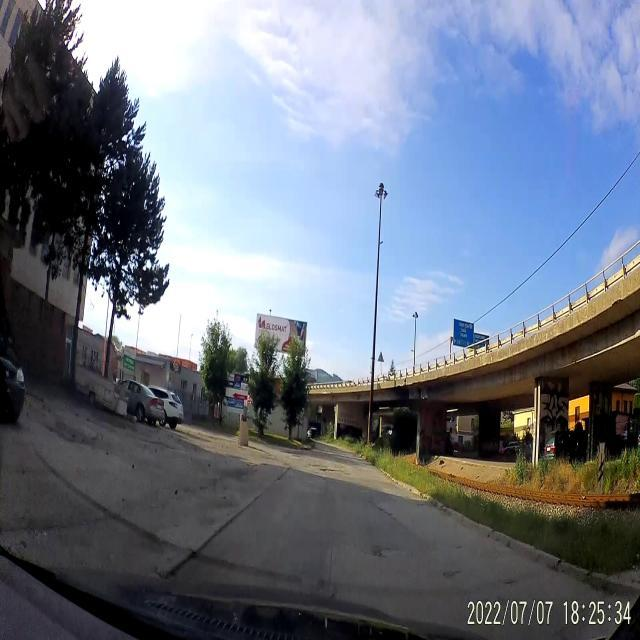Pothole: (436, 567, 464, 589), (370, 543, 404, 561), (319, 467, 347, 477)
